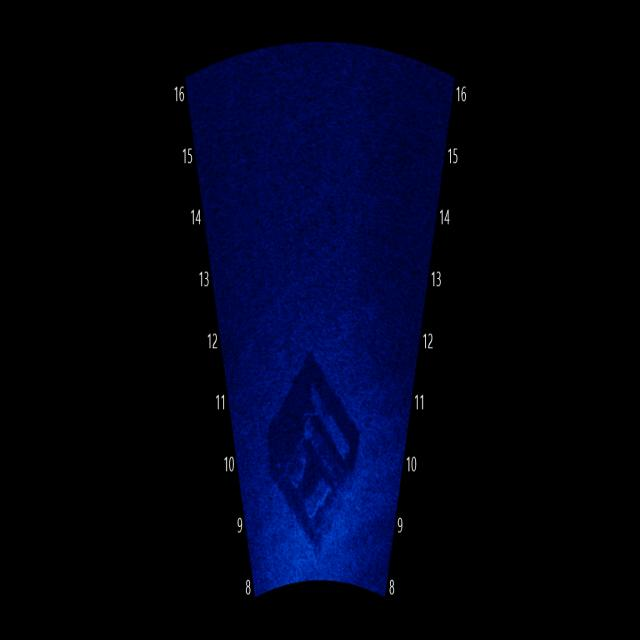square: (256, 333, 367, 555)
